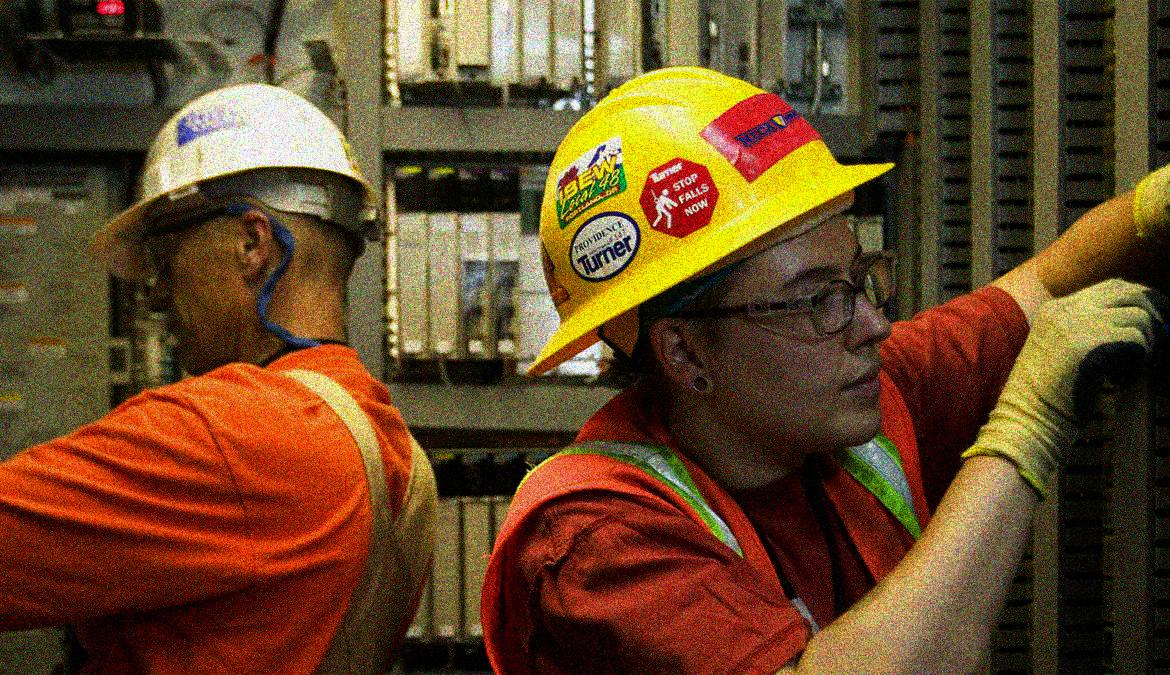helmet: (517, 64, 904, 442), (88, 85, 379, 375)
